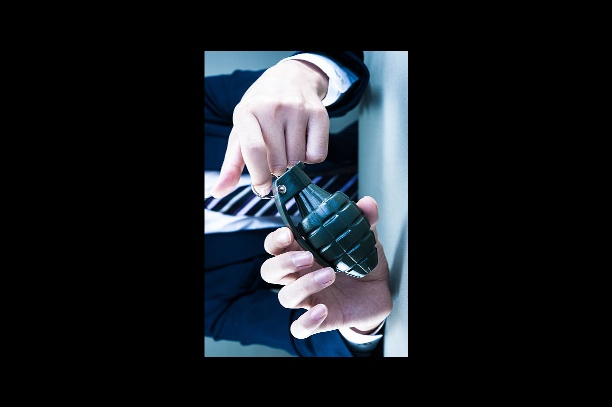e1: (253, 159, 377, 280)
